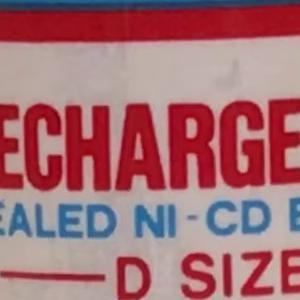NI-CD: (124, 190, 281, 248)
